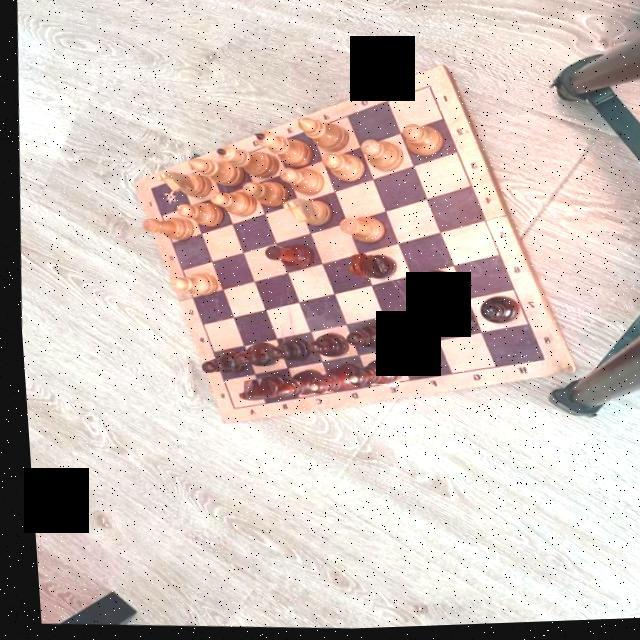chess-table-corners: (220, 404, 236, 416), (530, 358, 544, 368), (143, 186, 154, 196), (422, 87, 430, 94)
